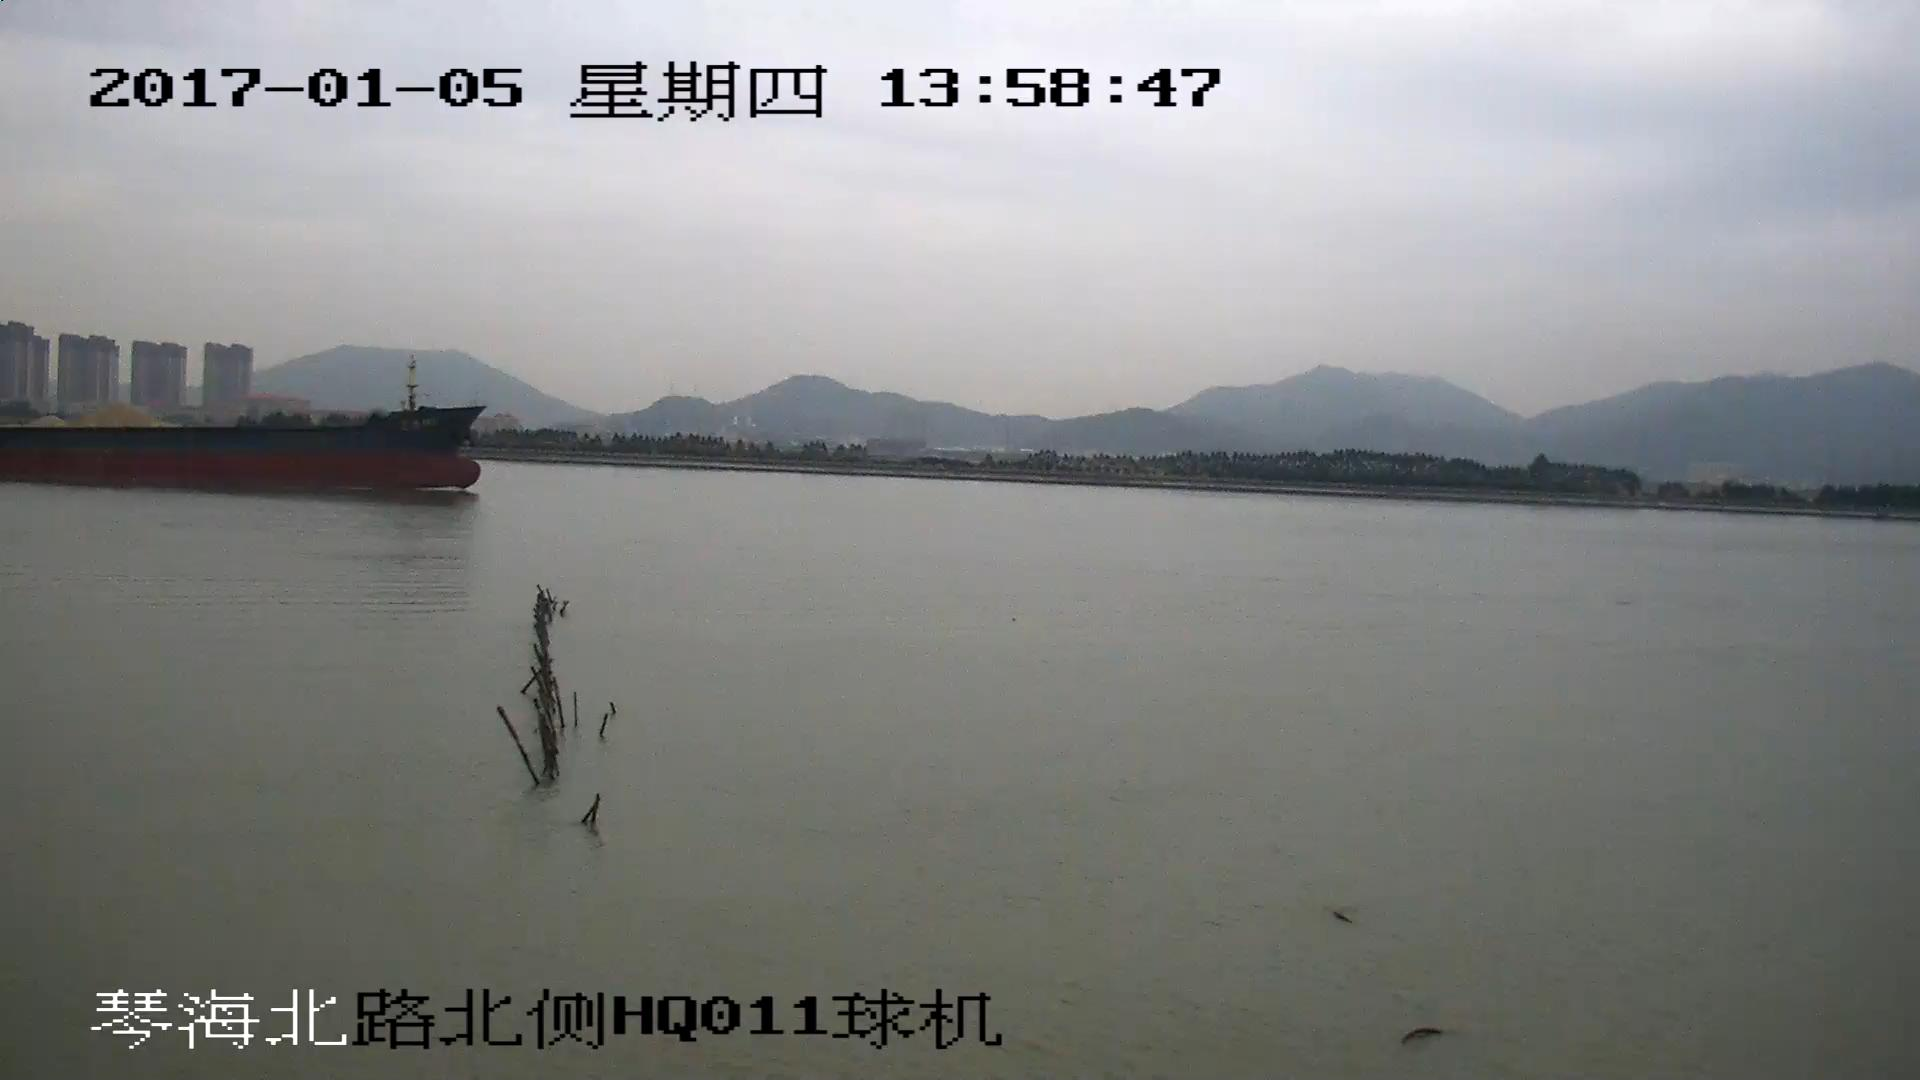general cargo ship: (1, 367, 478, 490)
